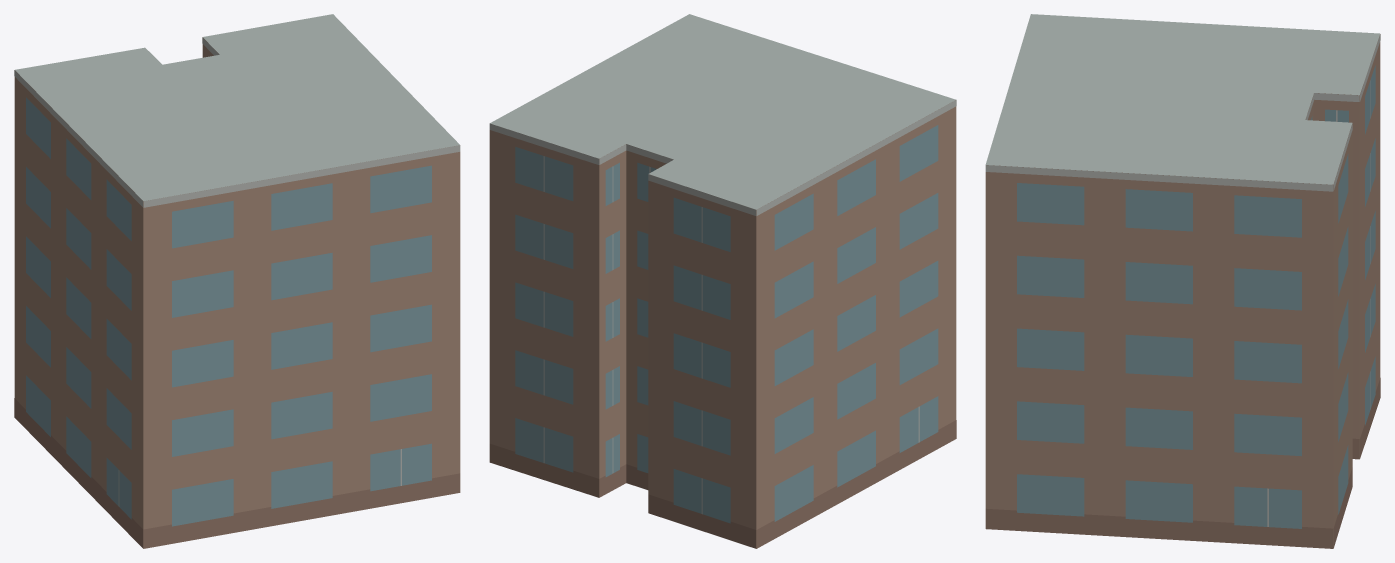
File: survey-upis-32655997.glb
3 views of the same model, side by side, from view 1: azimuth 30°, elevation 25°; view 2: azimuth 150°, elevation 25°; view 3: azimuth 270°, elevation 25° (orthographic). The views are drawn at different scales.
Visible parts, largest first — view 1: survey-upis-32655997.tmp; view 2: survey-upis-32655997.tmp; view 3: survey-upis-32655997.tmp.
Part boxes in pixels (x1,y1,x2,y2): survey-upis-32655997.tmp: (14,14,460,548); survey-upis-32655997.tmp: (489,14,956,548); survey-upis-32655997.tmp: (985,14,1380,548).
Bounding box in the file's own units: 12.89 × 12.8 × 12.6.
